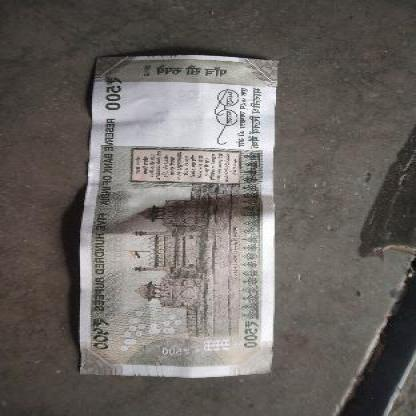New500Back: (75, 63, 274, 376)
